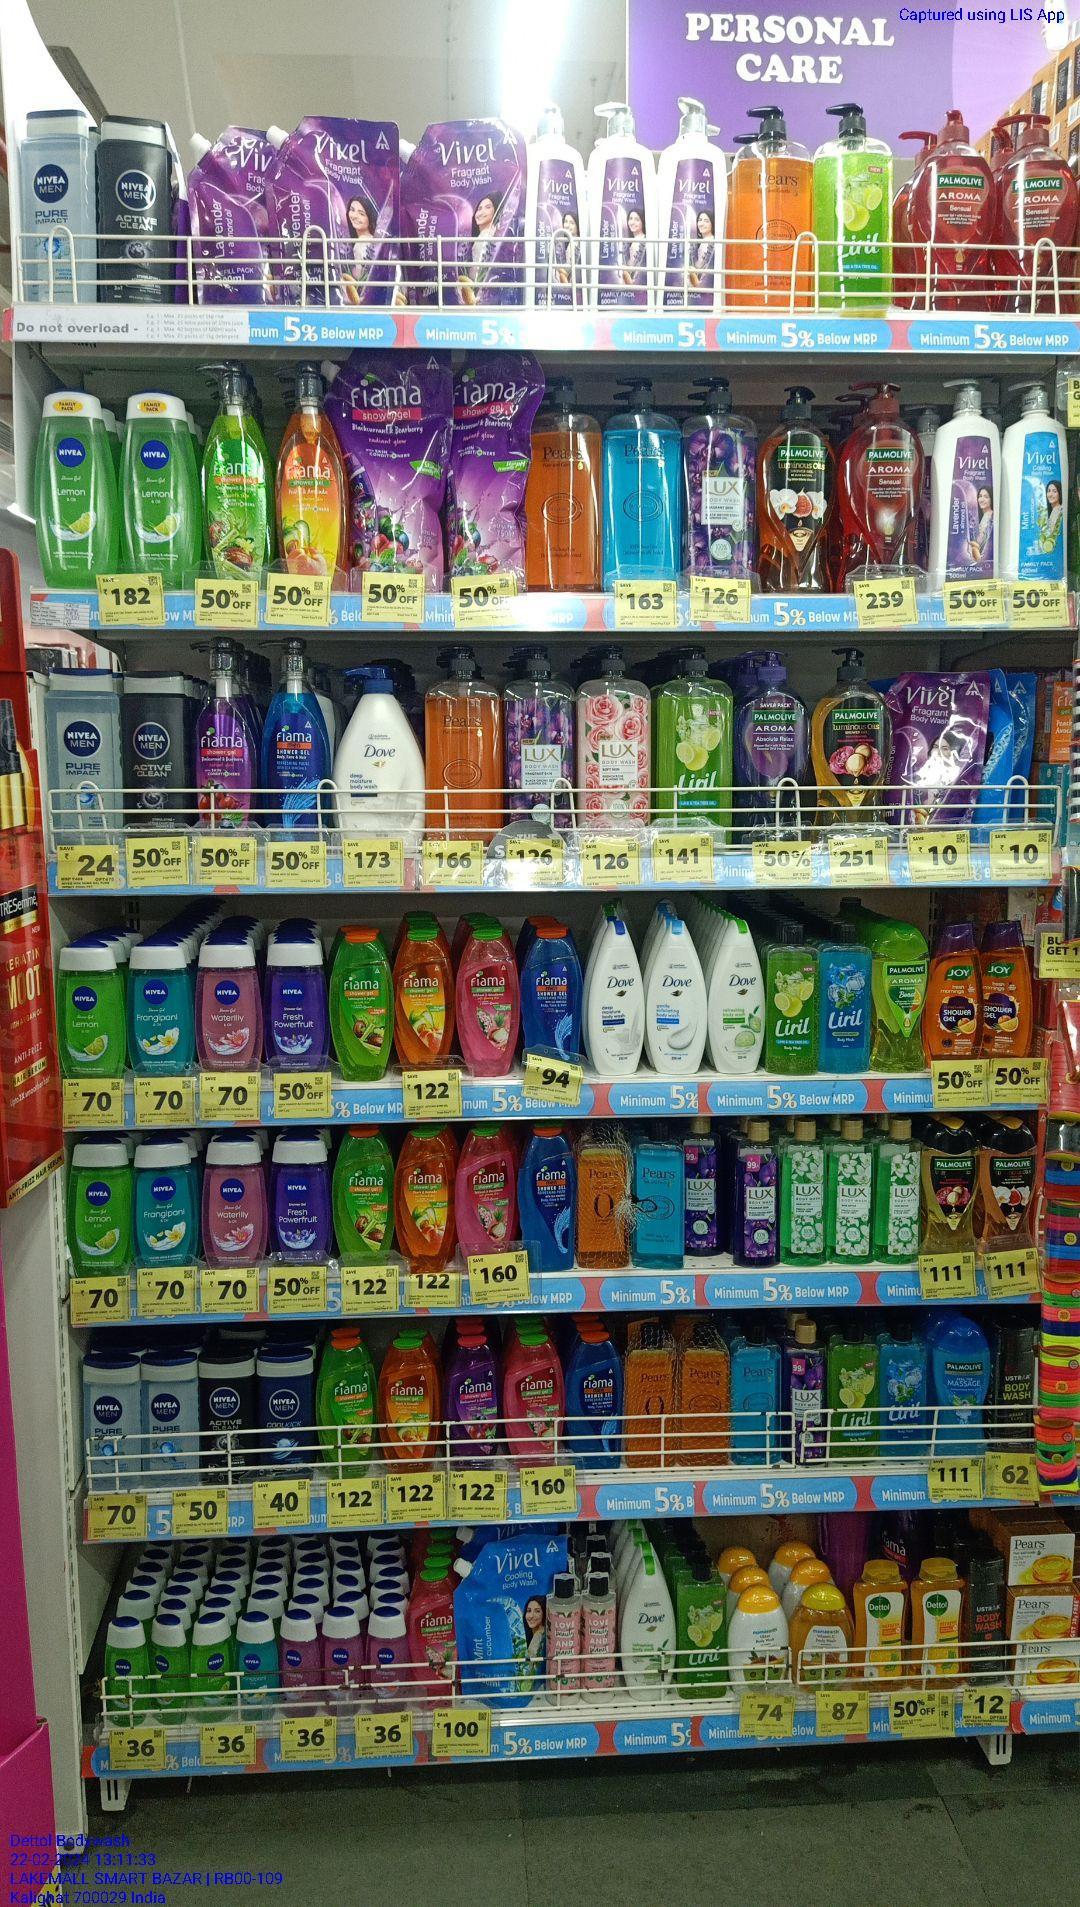Dettol_Bodywash_Refresh: (854, 1557, 905, 1692), (912, 1557, 958, 1687)
Dove_Deep_Moisture_Body_Wash_250ML: (589, 918, 643, 1075)
Dove_Gentle_Exfoliating_Body_Wash_250ML: (648, 913, 704, 1082)
Dove_Refreshing_Body_Wash_250ML: (712, 918, 768, 1073), (621, 1559, 679, 1699)
Fiama_Shower_Gel_Lemongrass_and_Jojoba_250ML: (327, 926, 389, 1081), (331, 1125, 393, 1260), (318, 1339, 372, 1468)
Fiama_Shower_Gel_Patchouli_and_Macadamia_250ML: (461, 930, 516, 1074), (406, 1570, 458, 1711), (508, 1332, 558, 1463), (462, 1128, 508, 1253)
Fiama_Shower_Gel_Peach_and_Avocado_250ML: (398, 919, 456, 1073), (398, 1121, 456, 1269), (380, 1335, 435, 1468)
Joy_Shower_Gel_Mandarin_and_Lemongrass_250ML: (979, 918, 1030, 1056), (929, 925, 978, 1058)
Liril_Cooling_Mint_Body_Wash_250ML: (819, 922, 868, 1074), (882, 1307, 926, 1455)
Liril_Lime_and_Tea_Tree_Oil_Body_Wash_250ML: (772, 925, 817, 1079), (682, 1555, 729, 1699), (835, 1324, 882, 1460)
Lux_Black_Orchid_Scent_and_Juniper_Oil_Body_Wash_245ML: (734, 1119, 779, 1269), (686, 1117, 725, 1255)
Lux_Body_Wash_Skin_Detox_Freesia_Scent_and_Alove_Vera_245ML: (878, 1109, 919, 1264), (830, 1112, 871, 1265), (785, 1115, 825, 1267)
Nivea_Shower_Gel_Frangipani_and_Oil_250ML: (131, 940, 194, 1074), (135, 1138, 196, 1268)
Nivea_Shower_Gel_Fresh_Powerfruit_250ML: (264, 931, 321, 1069), (274, 1134, 330, 1259)
Nivea_Shower_Gel_Lemon_and_Oil_250ML: (117, 390, 196, 583), (34, 389, 109, 589), (55, 942, 120, 1081), (69, 1137, 131, 1276)
Nivea_Shower_Gel_Waterlily_and_Oil_250ML: (202, 1136, 267, 1267), (199, 935, 261, 1071)
Palmolive_Aroma_Moments_Feel_The_Massage_Shower_Gel_250ML: (933, 1319, 983, 1455)
Palmolive_Aroma_Morning_Tonic_Shower_Gel_250ML: (876, 925, 928, 1077)
Palmolive_Luminous_Oils_Invigorating_Macadamia_Oil_With_Peony_250ML: (924, 1117, 978, 1253)
Palmolive_Luminous_Oils_With_White_Orchid_Shower_Gel_250ML: (981, 1116, 1034, 1253)
Pears_Pure_Glycerin_and_Mint_Extracts_Body_Wash_250ML: (634, 1128, 682, 1269), (732, 1327, 778, 1466)
